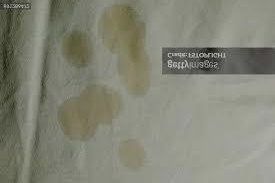oil: (103, 9, 149, 94), (61, 92, 123, 135), (59, 38, 95, 65), (115, 141, 145, 172)
